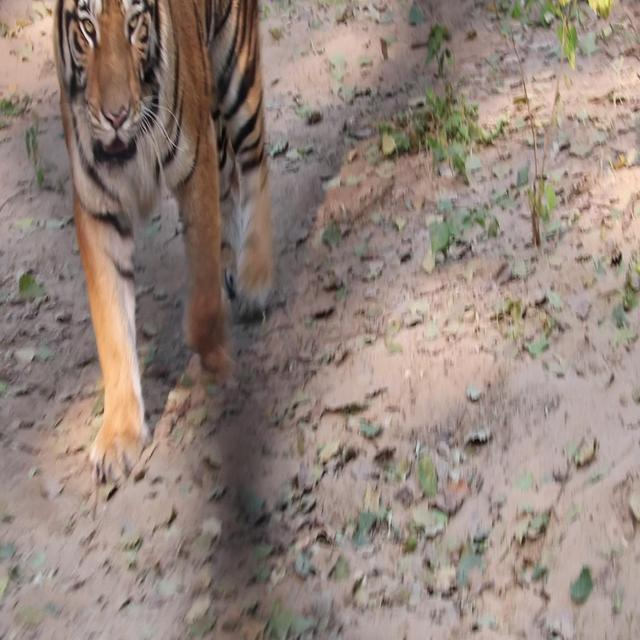tiger: (50, 0, 276, 484)
